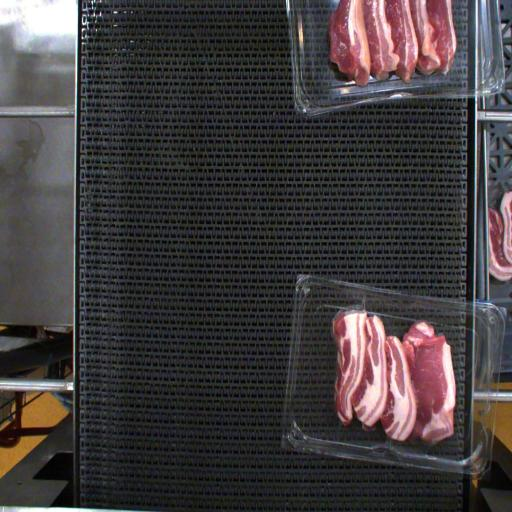packaging-error: (351, 289, 375, 310)
unsealed: (333, 301, 368, 321)
